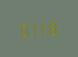eight: (48, 19, 57, 36)
one: (28, 20, 37, 37), (38, 20, 47, 36)
zero: (18, 21, 27, 37)
